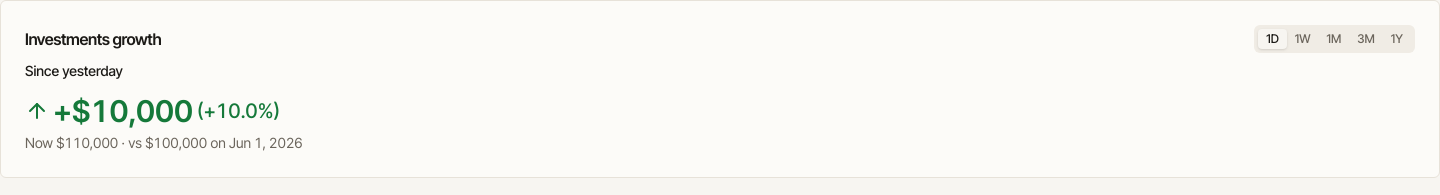
Scenario: GrowthCard — horizon chips › clicking a chip drives the headline delta + context level (round-3 S10 order)
Click the tab named "3M — past 3 months". click: (1366, 39)
box: 1349,29 -> 1383,49
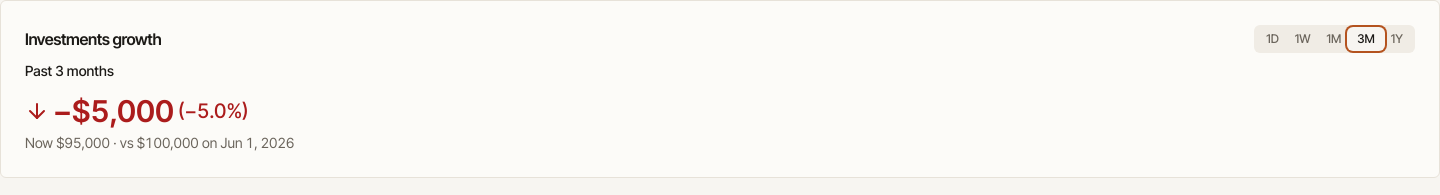
Now the text with test id "growth-context" shows "Now $95,000", box 25,134 -> 294,151
Now the text "−$5,000" is shown, box 53,93 -> 174,129
Now the text "Past 3 months" is shown, box 25,62 -> 114,79
